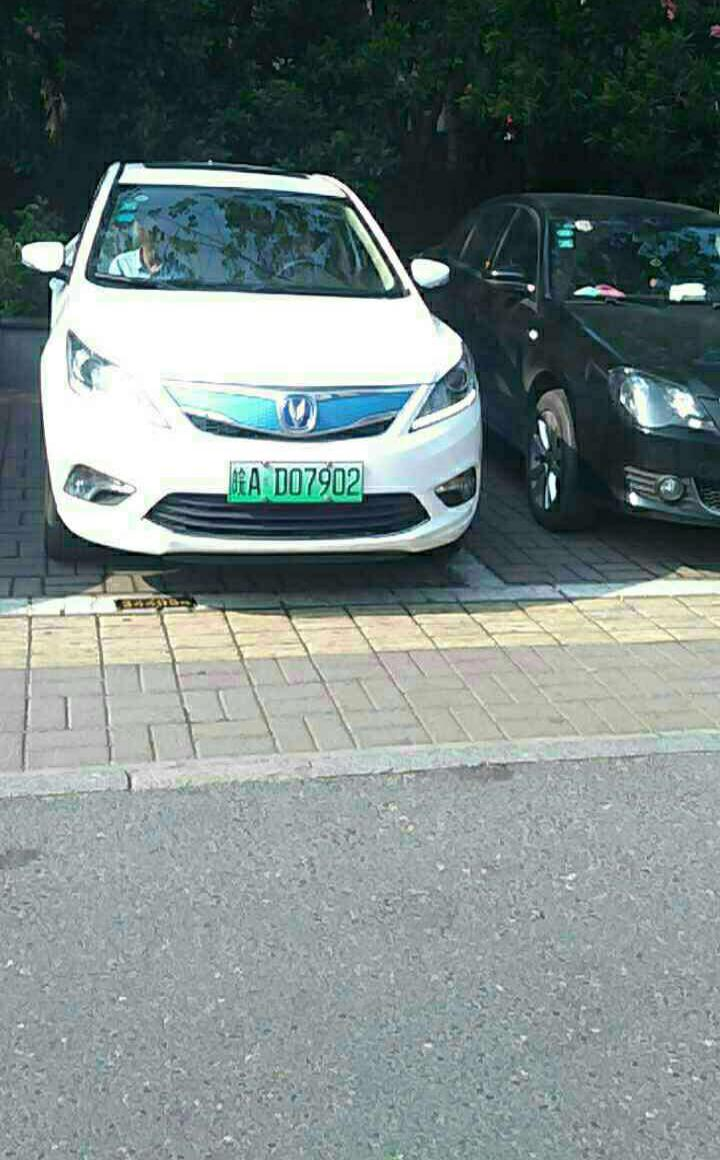car_id: (226, 460, 364, 503)
